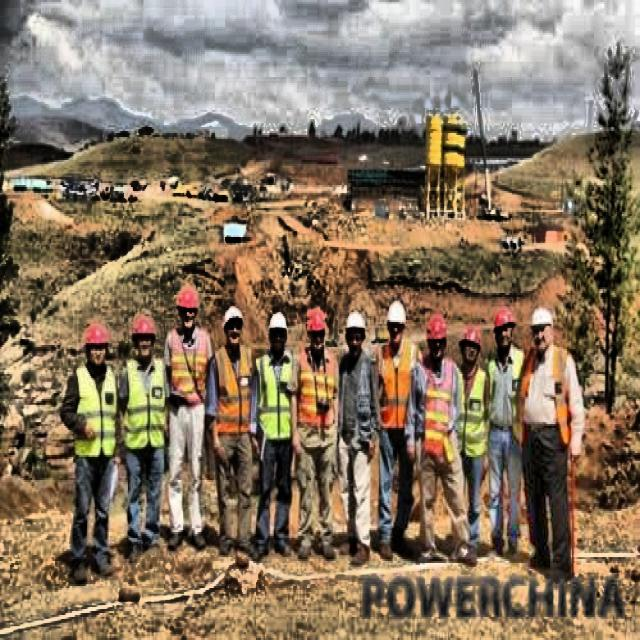helmet: (528, 300, 560, 356), (82, 320, 113, 374), (382, 295, 408, 358), (342, 306, 371, 361), (220, 298, 248, 354), (301, 302, 329, 358), (127, 313, 155, 367), (458, 320, 486, 374), (490, 303, 517, 357), (174, 284, 202, 336), (424, 313, 448, 367), (268, 308, 290, 356)
